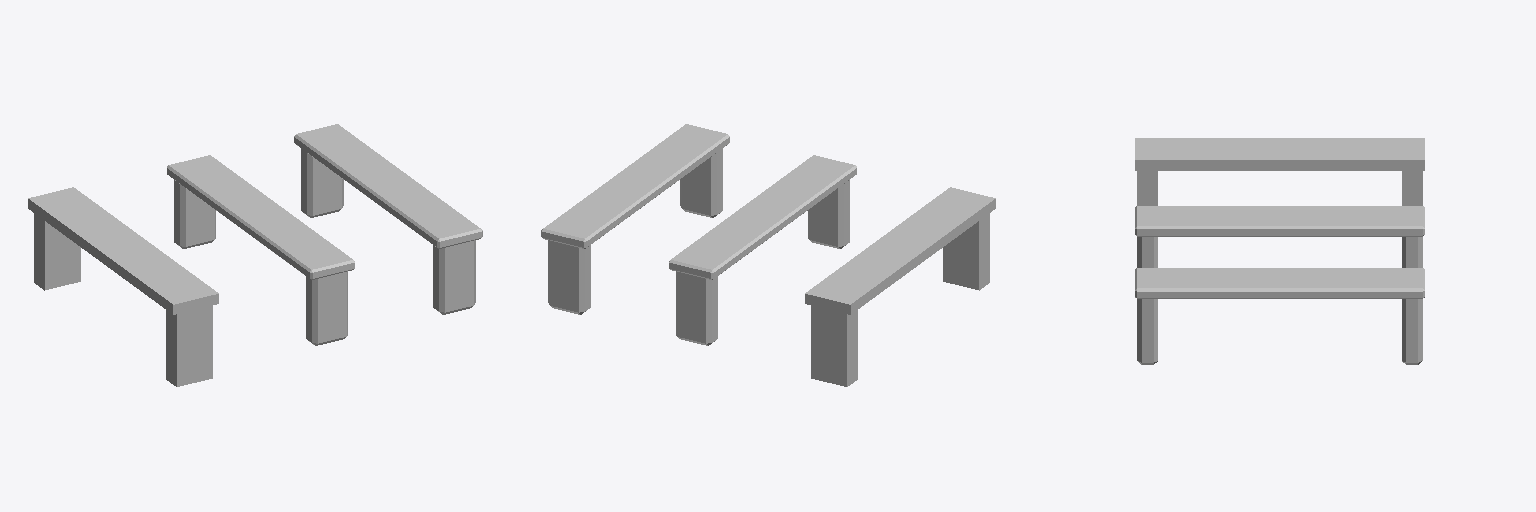
The model's file is Benchv2.obj.
3 renders of one model, left to right at view 1: azimuth 30°, elevation 25°; view 2: azimuth 150°, elevation 25°; view 3: azimuth 270°, elevation 25°, orthographic.
Parts seen in each view (by area): view 1: Cube.006, Cube.003, Cube.002, Cube.004, Cube.001, Cube.005, Cube; view 2: Cube.006, Cube.003, Cube.002, Cube.005, Cube, Cube.004, Cube.001; view 3: Cube.006, Cube.003, Cube.002, Cube.004, Cube.005, Cube, Cube.001.
Boxes of the visible parts, <box> form: Cube.006: <box>294,124,482,314</box>; Cube.003: <box>28,187,218,314</box>; Cube.002: <box>167,155,354,279</box>; Cube.004: <box>166,306,212,386</box>; Cube.001: <box>306,271,347,345</box>; Cube.005: <box>34,213,80,290</box>; Cube: <box>174,180,215,248</box>; Cube.006: <box>541,124,729,314</box>; Cube.003: <box>805,187,995,314</box>; Cube.002: <box>669,155,856,279</box>; Cube.005: <box>811,306,857,386</box>; Cube: <box>676,271,717,345</box>; Cube.004: <box>943,213,989,290</box>; Cube.001: <box>808,180,849,248</box>; Cube.006: <box>1135,268,1424,364</box>; Cube.003: <box>1135,138,1424,170</box>; Cube.002: <box>1135,206,1424,236</box>; Cube.004: <box>1137,171,1157,205</box>; Cube.005: <box>1402,171,1422,205</box>; Cube: <box>1402,237,1422,267</box>; Cube.001: <box>1137,237,1157,267</box>.
Size of the model in its own units: 13.56 by 3.53 by 11.